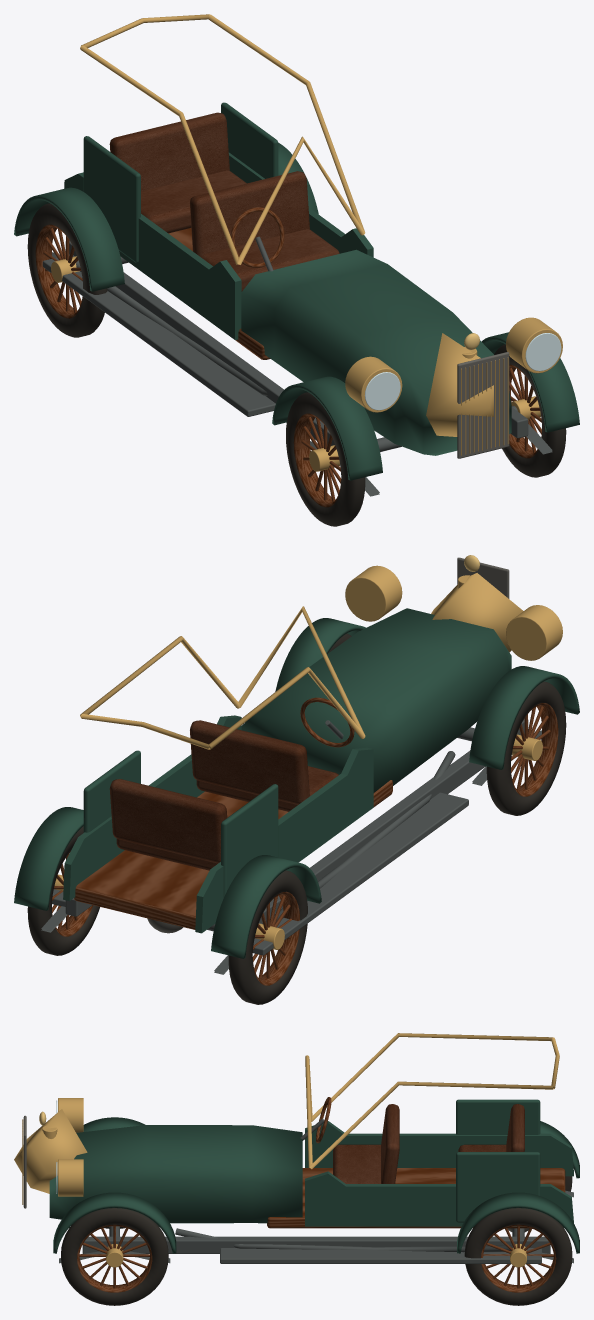
The model's file is Mercedes_37_90_1912_Detailed.fbx.
3 renders of one model, top to bottom at view 1: azimuth 30°, elevation 25°; view 2: azimuth 150°, elevation 25°; view 3: azimuth 270°, elevation 25°, orthographic. The views are drawn at different scales.
Parts seen in each view (by area): view 1: Mercedes_37_90_1912_Long_Hood, Mercedes_37_90_1912_Side_-1, Mercedes_37_90_1912_Seat_Back_0.38, Mercedes_37_90_1912_Seat_Back_1.45, Mercedes_37_90_1912_Running_Board_-1, Mercedes_37_90_1912_Mudguard_-1_1.725, Mercedes_37_90_1912_Mudguard_-1_-1.725, Mercedes_37_90_1912_Rear_Door_-1, Mercedes_37_90_1912_Radiator_Core, Mercedes_37_90_1912_Wheel_FL_Tire, Mercedes_37_90_1912_Pointed_Radiator, Mercedes_37_90_1912_Wheel_RL_Tire (+20 smaller); view 2: Mercedes_37_90_1912_Long_Hood, Mercedes_37_90_1912_Cabin_Floor, Mercedes_37_90_1912_Side_-1, Mercedes_37_90_1912_Seat_Back_1.45, Mercedes_37_90_1912_Seat_Back_0.38, Mercedes_37_90_1912_Running_Board_-1, Mercedes_37_90_1912_Mudguard_-1_-1.725, Mercedes_37_90_1912_Mudguard_-1_1.725, Mercedes_37_90_1912_Rear_Door_-1, Mercedes_37_90_1912_Mudguard_1_1.725, Mercedes_37_90_1912_Side_1, Mercedes_37_90_1912_Wheel_FL_Tire (+19 smaller); view 3: Mercedes_37_90_1912_Long_Hood, Mercedes_37_90_1912_Side_1, Mercedes_37_90_1912_Side_-1, Mercedes_37_90_1912_Chassis_Rail_1, Mercedes_37_90_1912_Wheel_FR_Tire, Mercedes_37_90_1912_Wheel_RR_Tire, Mercedes_37_90_1912_Rear_Door_1, Mercedes_37_90_1912_Running_Board_1, Mercedes_37_90_1912_Pointed_Radiator, Mercedes_37_90_1912_Cabin_Floor, Mercedes_37_90_1912_Rear_Door_-1, Mercedes_37_90_1912_Mudguard_1_-1.725 (+16 smaller).
Boxes of the visible parts, bbox=[...] form: Mercedes_37_90_1912_Long_Hood: bbox=[241, 249, 511, 455]; Mercedes_37_90_1912_Side_-1: bbox=[64, 172, 241, 340]; Mercedes_37_90_1912_Seat_Back_0.38: bbox=[190, 171, 309, 255]; Mercedes_37_90_1912_Seat_Back_1.45: bbox=[109, 112, 229, 191]; Mercedes_37_90_1912_Running_Board_-1: bbox=[42, 254, 275, 416]; Mercedes_37_90_1912_Mudguard_-1_1.725: bbox=[14, 187, 124, 291]; Mercedes_37_90_1912_Mudguard_-1_-1.725: bbox=[272, 376, 382, 480]; Mercedes_37_90_1912_Rear_Door_-1: bbox=[83, 136, 140, 262]; Mercedes_37_90_1912_Radiator_Core: bbox=[457, 352, 509, 458]; Mercedes_37_90_1912_Wheel_FL_Tire: bbox=[286, 392, 365, 526]; Mercedes_37_90_1912_Pointed_Radiator: bbox=[426, 333, 493, 436]; Mercedes_37_90_1912_Wheel_RL_Tire: bbox=[27, 203, 107, 337]; Mercedes_37_90_1912_Long_Hood: bbox=[241, 608, 511, 792]; Mercedes_37_90_1912_Cabin_Floor: bbox=[74, 780, 392, 929]; Mercedes_37_90_1912_Side_-1: bbox=[195, 747, 373, 933]; Mercedes_37_90_1912_Seat_Back_1.45: bbox=[109, 779, 227, 863]; Mercedes_37_90_1912_Seat_Back_0.38: bbox=[190, 720, 309, 804]; Mercedes_37_90_1912_Running_Board_-1: bbox=[253, 792, 468, 955]; Mercedes_37_90_1912_Mudguard_-1_-1.725: bbox=[469, 666, 579, 769]; Mercedes_37_90_1912_Mudguard_-1_1.725: bbox=[211, 855, 321, 958]; Mercedes_37_90_1912_Rear_Door_-1: bbox=[221, 784, 278, 897]; Mercedes_37_90_1912_Mudguard_1_1.725: bbox=[14, 807, 83, 910]; Mercedes_37_90_1912_Side_1: bbox=[63, 715, 241, 901]; Mercedes_37_90_1912_Wheel_FL_Tire: bbox=[486, 681, 566, 815]; Mercedes_37_90_1912_Long_Hood: bbox=[49, 1125, 302, 1223]; Mercedes_37_90_1912_Side_1: bbox=[305, 1171, 573, 1226]; Mercedes_37_90_1912_Side_-1: bbox=[305, 1121, 573, 1176]; Mercedes_37_90_1912_Chassis_Rail_1: bbox=[82, 1236, 550, 1253]; Mercedes_37_90_1912_Wheel_FR_Tire: bbox=[61, 1208, 168, 1305]; Mercedes_37_90_1912_Wheel_RR_Tire: bbox=[464, 1208, 572, 1305]; Mercedes_37_90_1912_Rear_Door_1: bbox=[456, 1152, 540, 1222]; Mercedes_37_90_1912_Running_Board_1: bbox=[220, 1248, 541, 1263]; Mercedes_37_90_1912_Pointed_Radiator: bbox=[14, 1109, 87, 1193]; Mercedes_37_90_1912_Cabin_Floor: bbox=[267, 1168, 565, 1228]; Mercedes_37_90_1912_Rear_Door_-1: bbox=[456, 1099, 540, 1134]; Mercedes_37_90_1912_Mudguard_1_-1.725: bbox=[53, 1192, 176, 1253].
Bounding box in the file's own units: 177 × 200 × 484.
Materials: 9 (2 with a texture image).
